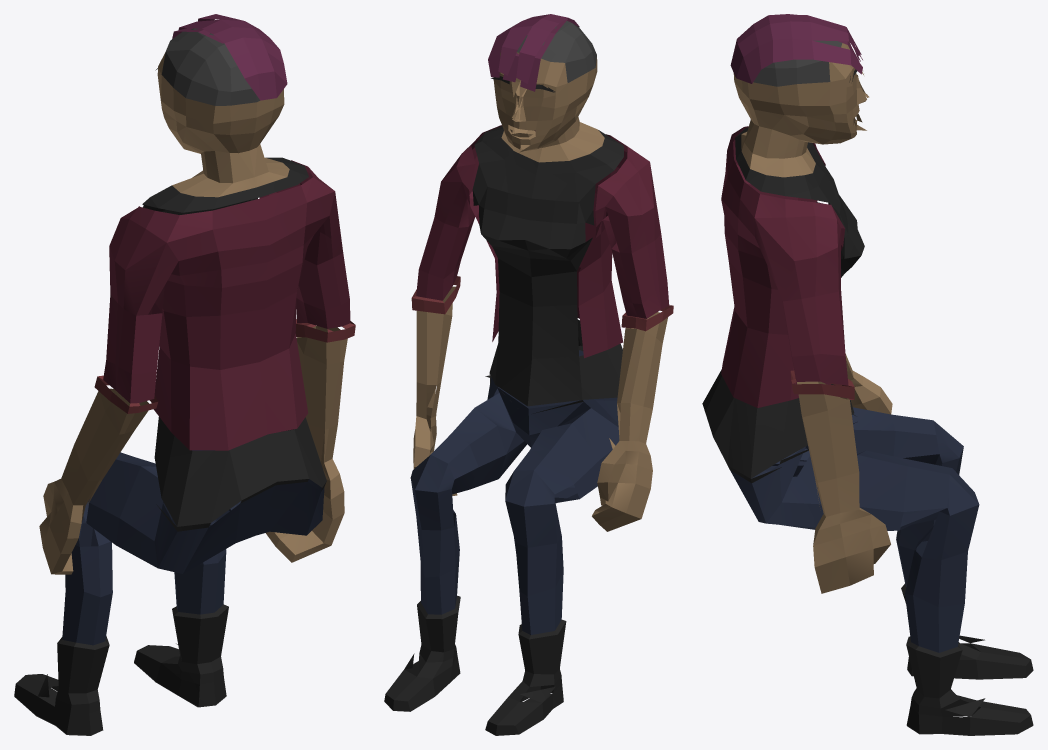
Rendered from person_8_sit.fbx.
3 views of the same model, side by side, from view 1: azimuth 30°, elevation 25°; view 2: azimuth 150°, elevation 25°; view 3: azimuth 270°, elevation 25° (orthographic). The views are drawn at different scales.
Visible parts, largest first — view 1: Female; view 2: Female; view 3: Female.
Part boxes in pixels (box(x1,y1,x2,y2)): Female: box(14, 14, 355, 735); Female: box(384, 14, 673, 735); Female: box(702, 14, 1033, 735).
Bounding box in the file's own units: 0.3923 × 1 × 0.439.
